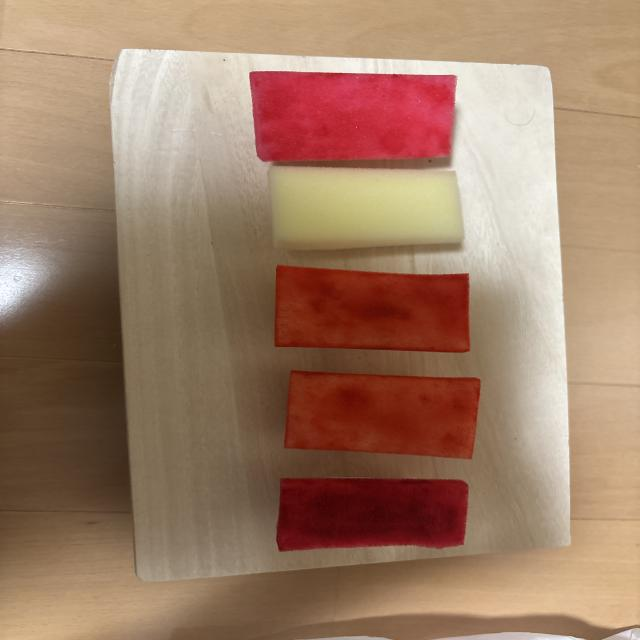maguro: (250, 71, 456, 161), (277, 478, 468, 551)
salmon: (284, 371, 480, 459), (275, 265, 470, 352)
tamago: (269, 165, 464, 250)
